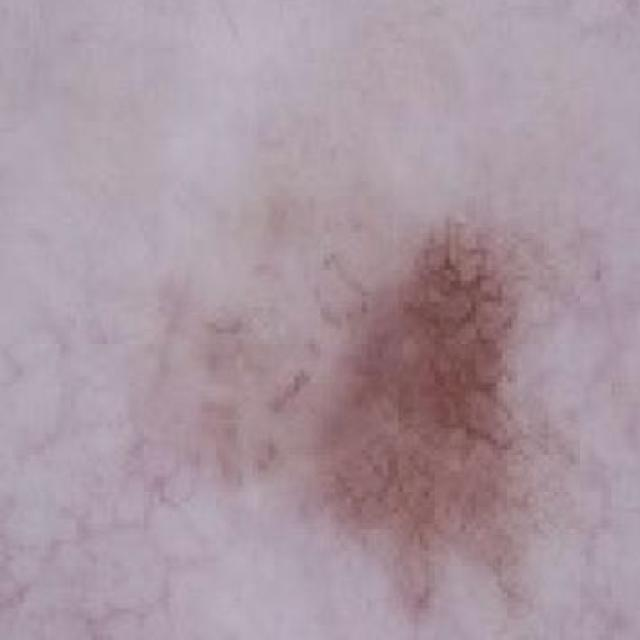BKL: (278, 89, 611, 640)
